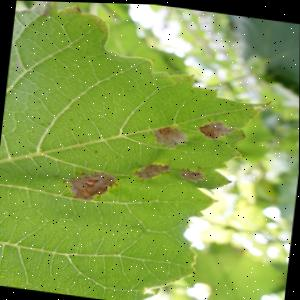Folha: (0, 0, 278, 300)
Fungo: (56, 98, 241, 218), (57, 165, 119, 203), (149, 122, 189, 149), (194, 116, 236, 141), (132, 158, 170, 182), (176, 165, 206, 182), (141, 283, 159, 295), (83, 176, 96, 186)
